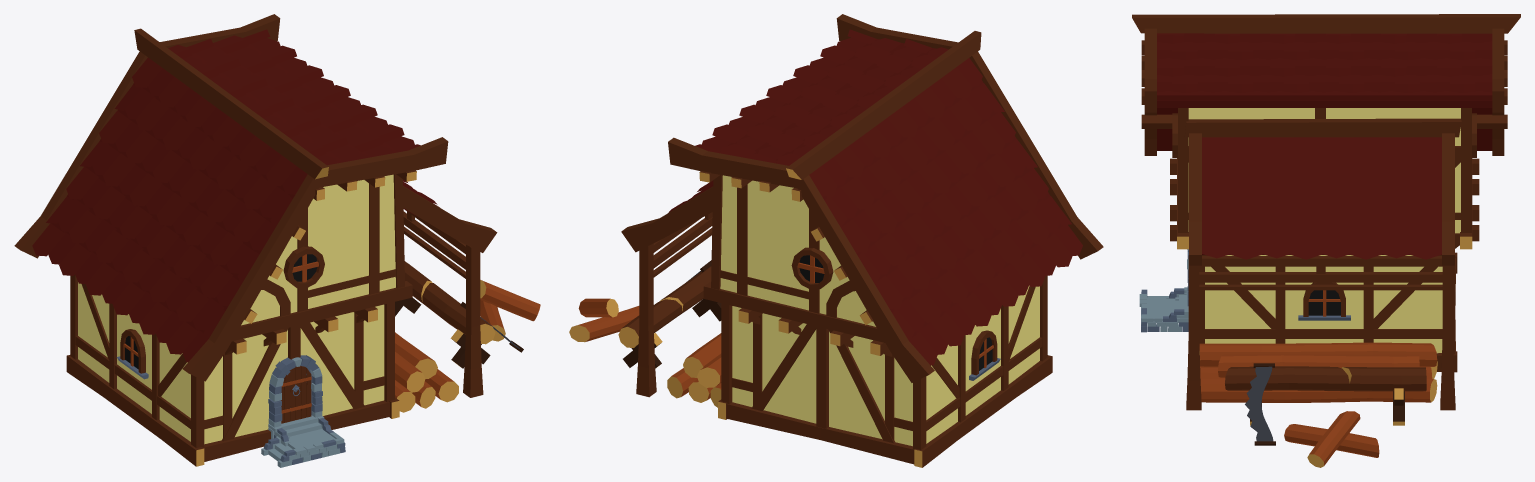
The model's file is Village_Sawmill.glb.
The picture shows the model from 3 angles, left to right: view 1: azimuth 30°, elevation 25°; view 2: azimuth 150°, elevation 25°; view 3: azimuth 270°, elevation 25°; orthographic projection. The views are drawn at different scales.
Parts seen in each view (by area): view 1: Sawmill; view 2: Sawmill; view 3: Sawmill.
Boxes of the visible parts, x1,y1,x2,y2 form: Sawmill: (14,14,540,467); Sawmill: (569,14,1103,467); Sawmill: (1132,14,1520,467).
Size of the model in its own units: 440 by 286 by 328.
